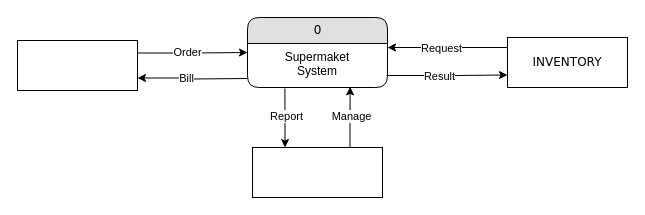
Some shapes in this 645 by 215 pixel diagram are drawn without their labels. The box of each missing label's shape, as (x1, y1, x2, y2) in pixels:
ADMIN: (252, 146, 382, 198)
CASHIER: (16, 40, 138, 90)
